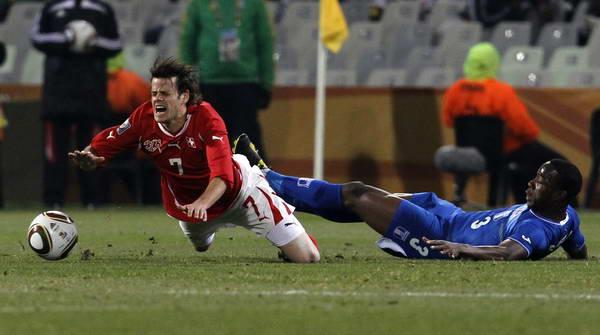down: (60, 55, 327, 271), (221, 127, 600, 268)
